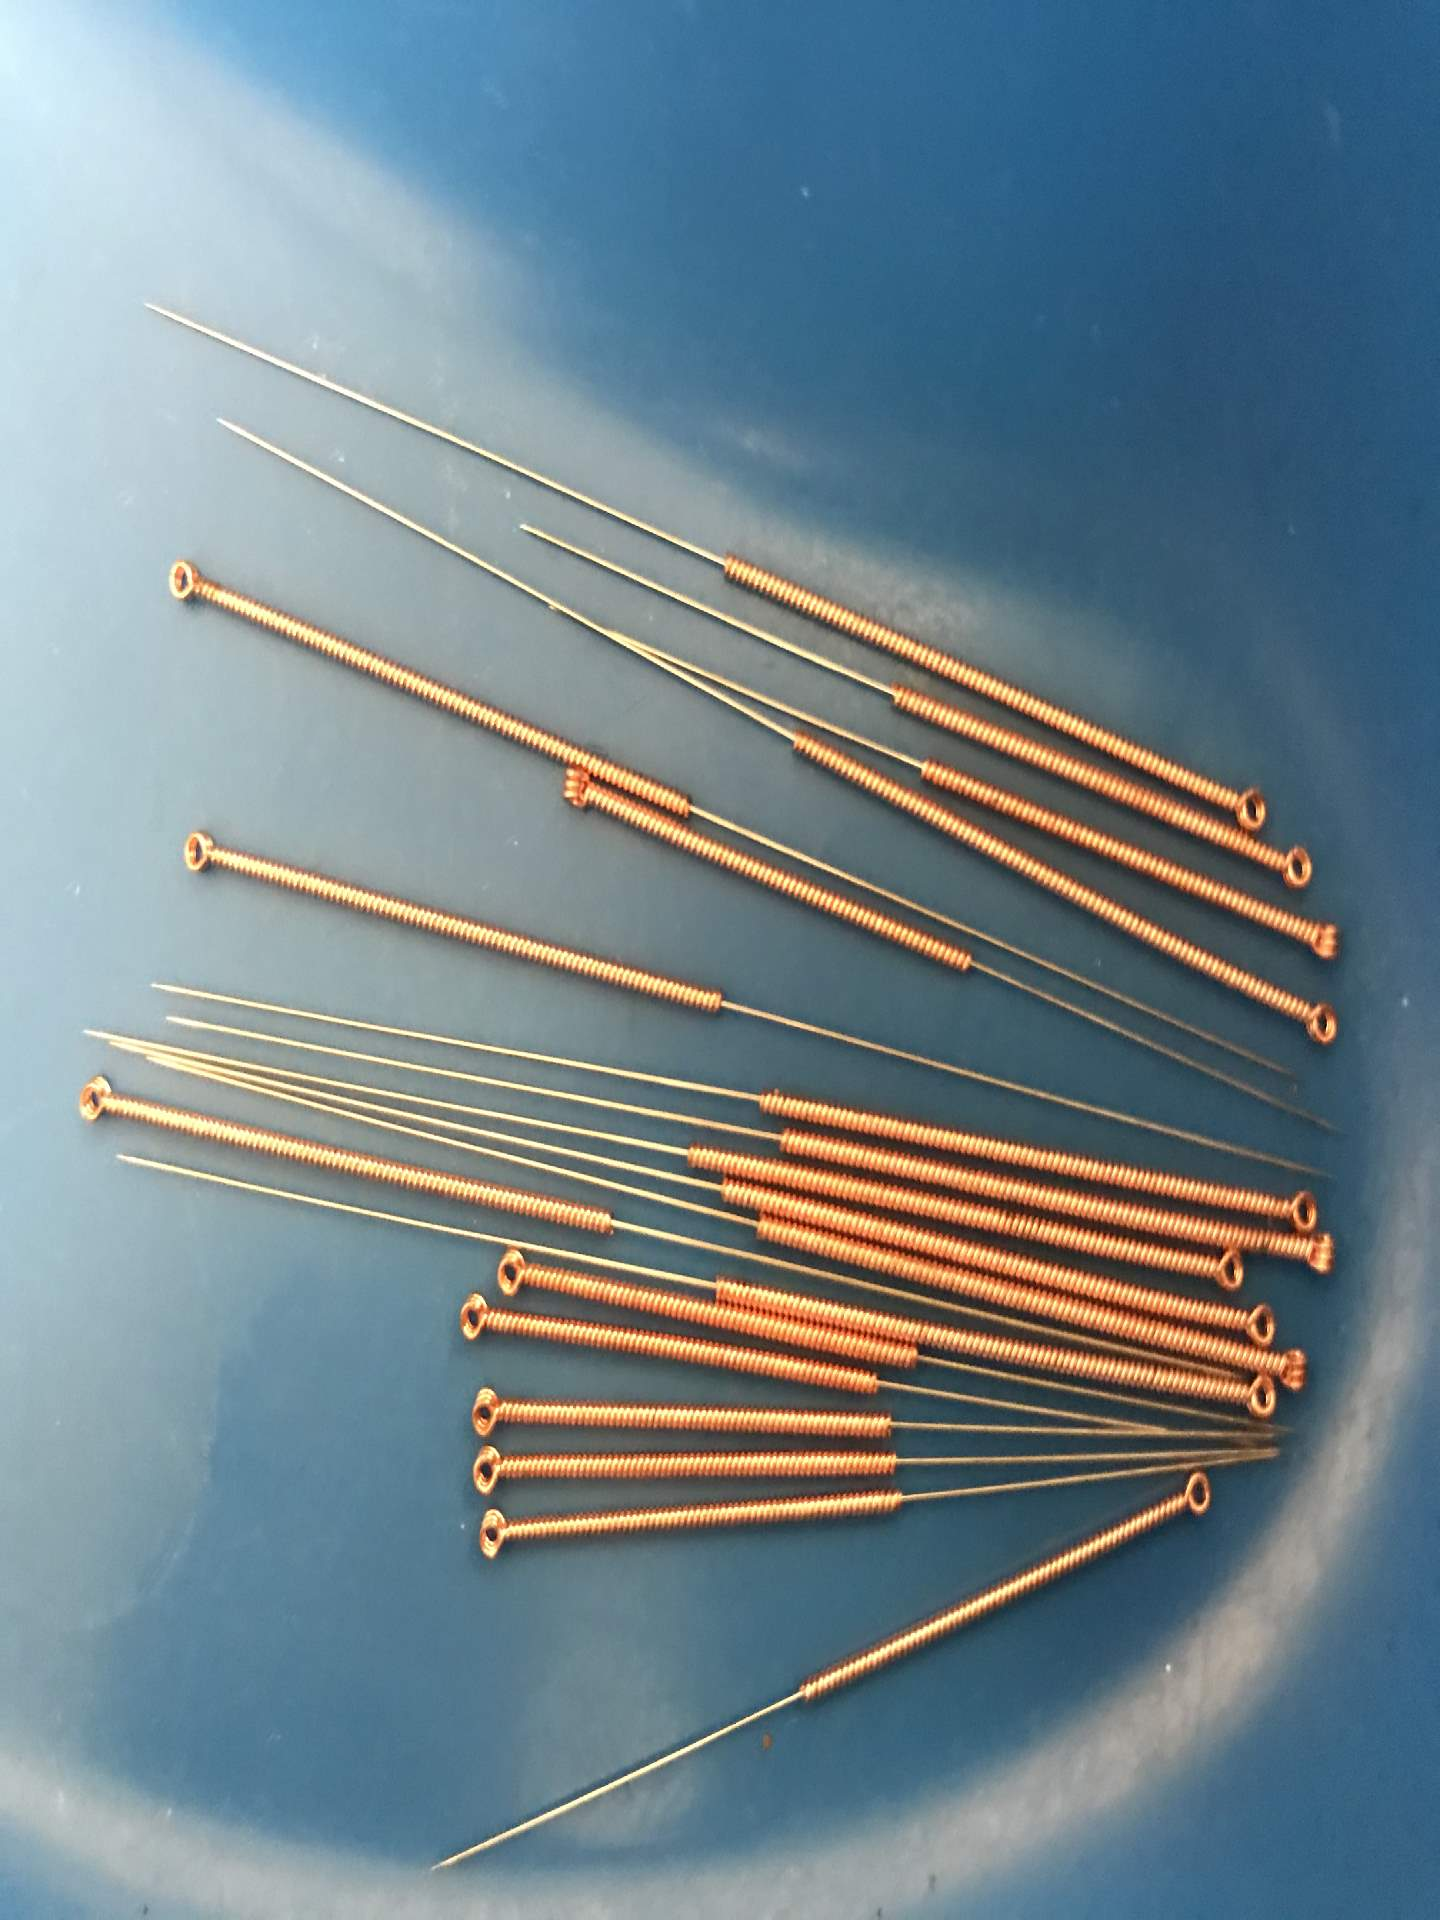needle: (148, 546, 219, 615), (1289, 986, 1351, 1058), (166, 819, 233, 886), (458, 1503, 523, 1571), (458, 1376, 519, 1442), (1290, 904, 1348, 974), (67, 1063, 123, 1132), (454, 1441, 517, 1500), (1163, 1463, 1224, 1522), (443, 1287, 498, 1352), (489, 1240, 542, 1305), (1268, 835, 1321, 895), (1224, 779, 1274, 838), (1231, 1370, 1278, 1430), (1274, 1178, 1319, 1240), (1199, 1241, 1252, 1294), (1233, 1299, 1284, 1350), (548, 763, 594, 815), (1289, 1231, 1342, 1274), (1268, 1349, 1317, 1392)
